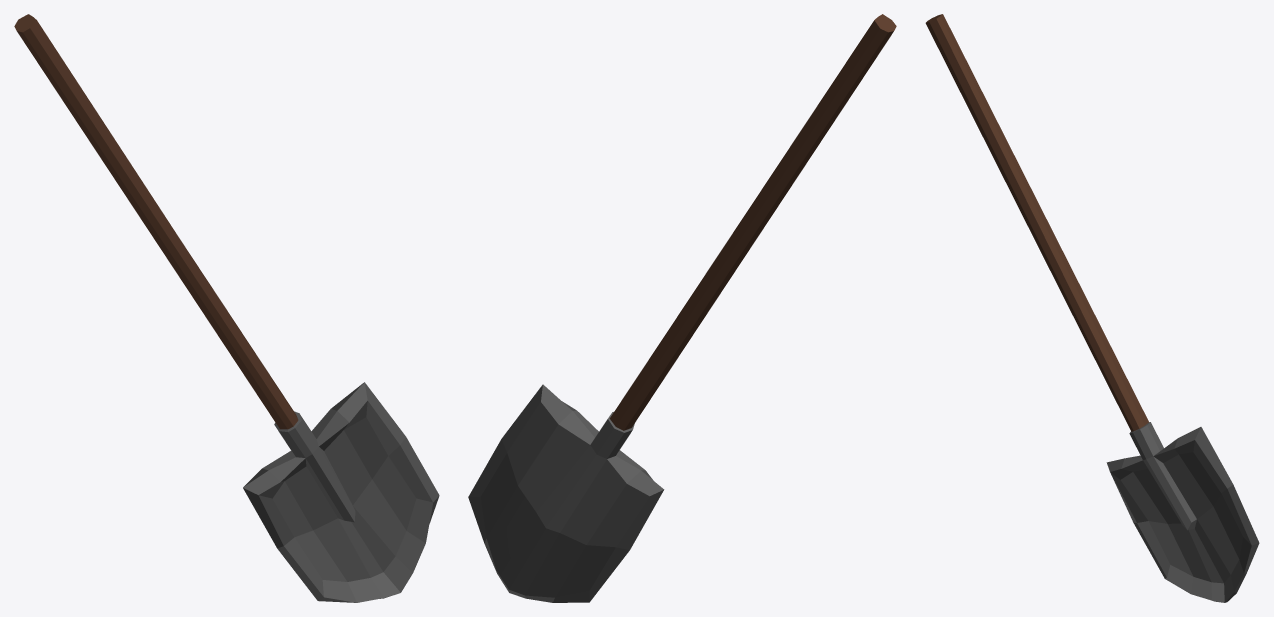
File: Shovel 2.fbx
The picture shows the model from 3 angles, left to right: view 1: azimuth 30°, elevation 25°; view 2: azimuth 150°, elevation 25°; view 3: azimuth 330°, elevation 25°; orthographic projection. The views are drawn at different scales.
Visible parts, largest first — view 1: Shovel; view 2: Shovel; view 3: Shovel.
Part boxes in pixels (x1,y1,x2,y2): Shovel: (14, 14, 439, 602); Shovel: (468, 14, 896, 602); Shovel: (925, 14, 1259, 602).
Bounding box in the file's own units: 954 × 1434 × 83.2.
